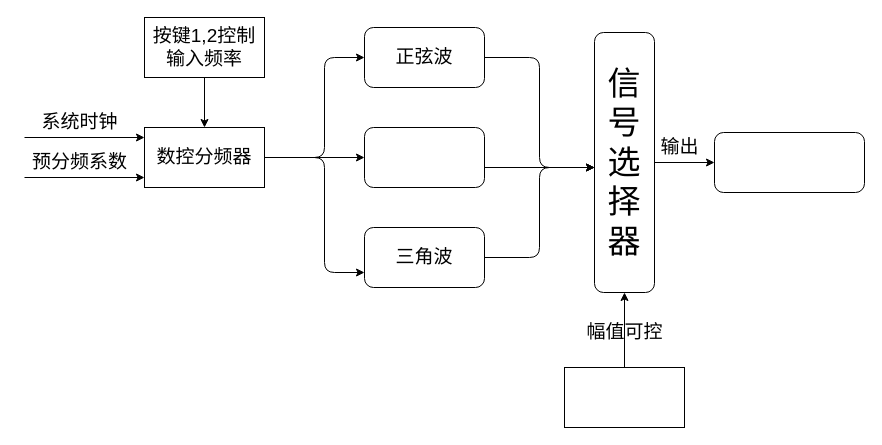
This 882x445 diagram has some shape labels left out. Each missing label, with the box of its shape:
DAC数模转换器: (714, 132, 864, 192)
按键3，4控制信号幅值: (564, 366, 684, 428)
方波: (364, 126, 484, 188)
